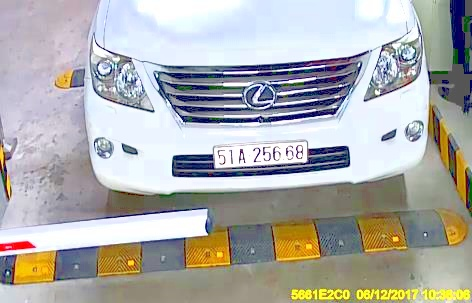plate: (206, 140, 308, 173)
